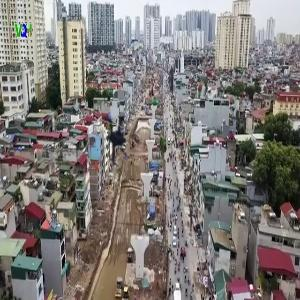drone: (77, 104, 145, 172)
